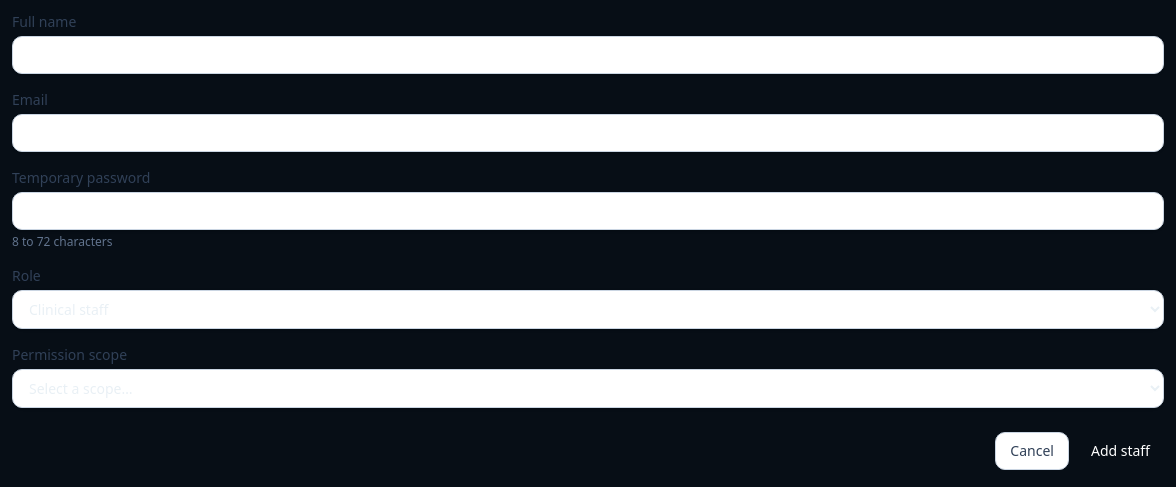
Test: StaffForm › shows the scope dropdown only for CLINICAL_STAFF
Expected: the dropdown labelled "Permission scope" is shown, [12,369,1164,408]
Select "Administrator" in the dropdown labelled "Role" at (588, 310), box [12,290,1164,329]
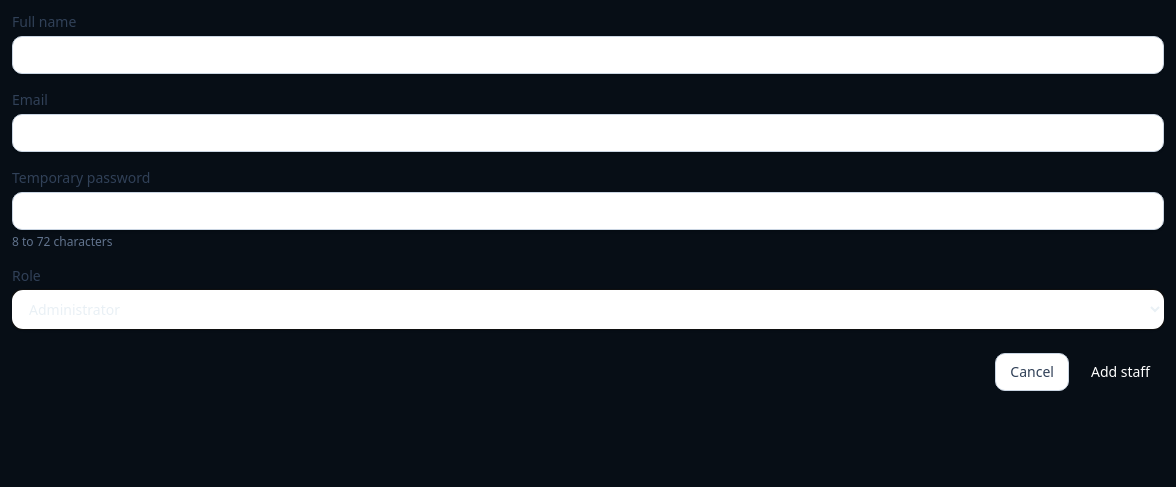
Expected: the label labelled "Permission scope" is gone
Select "Clinical staff" in the dropdown labelled "Role" at (588, 310), box [12,290,1164,329]
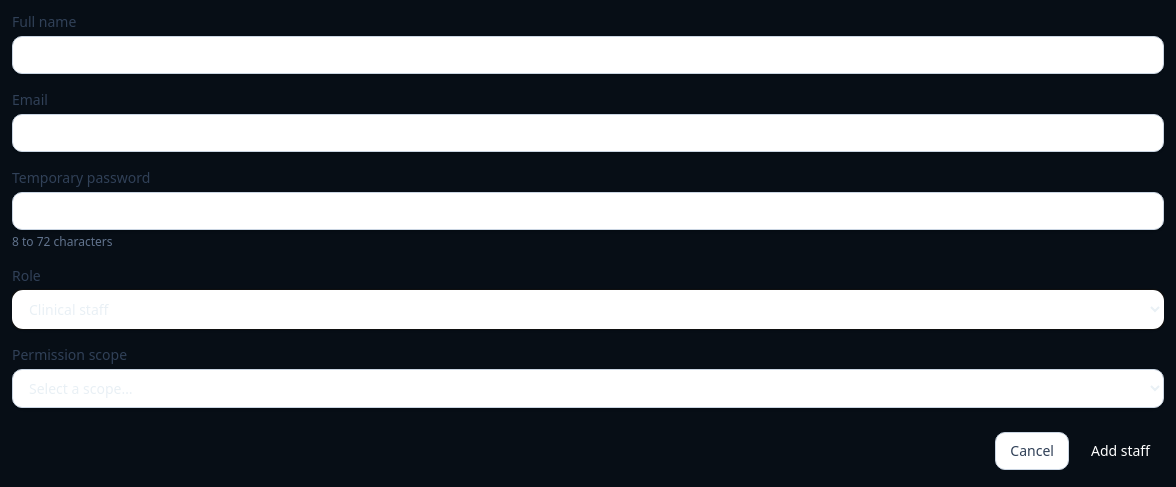
Expected: the dropdown labelled "Permission scope" is shown, [12,369,1164,408]
